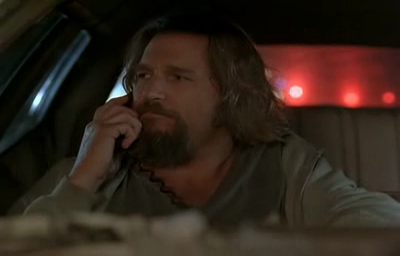cu: (1, 1, 400, 256)
face: (129, 45, 208, 154)
person: (21, 6, 400, 230)
